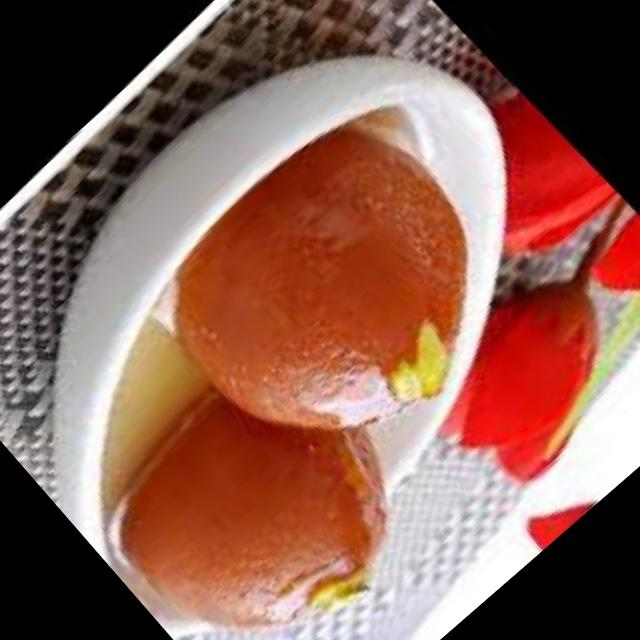gulab_jamun: (127, 79, 546, 494), (74, 318, 445, 640)
